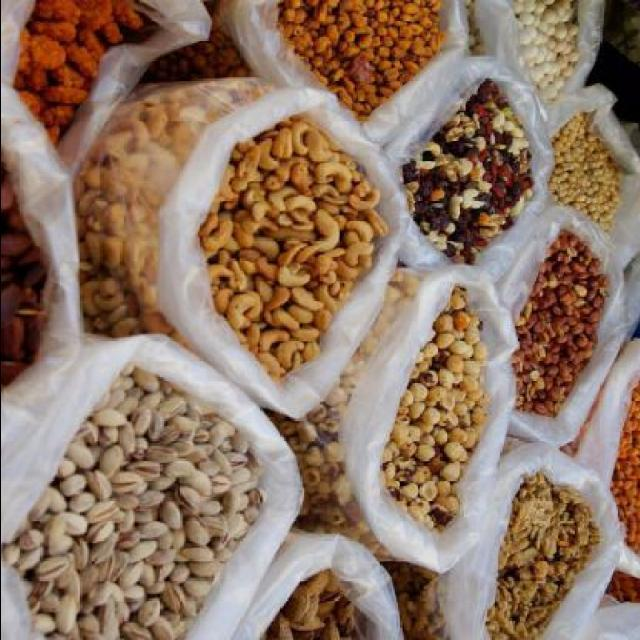Frutta secca: (17, 379, 248, 639), (207, 126, 379, 344), (391, 308, 489, 522), (418, 92, 532, 243), (489, 492, 591, 640), (513, 246, 604, 408), (293, 3, 444, 100), (558, 131, 614, 220)
